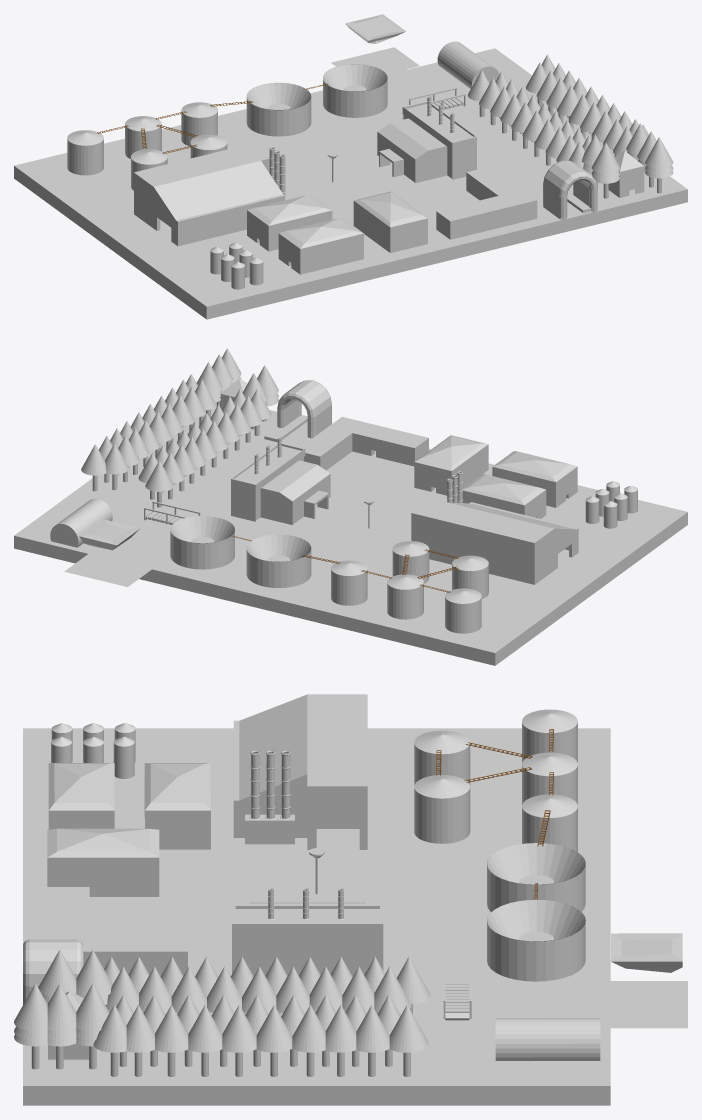
The model's file is Site_Industriel-1.fbx.
The picture shows the model from 3 angles, top to bottom: view 1: azimuth 30°, elevation 25°; view 2: azimuth 150°, elevation 25°; view 3: azimuth 270°, elevation 25°; orthographic projection. The views are drawn at different scales.
Visible parts, largest first — view 1: Plane, Cube.005, Cube.010, Plane.001, Cube.003, Cube.004, Cube.007, Cube.014, Cube.006, Torus.026, Cylinder.015, Cylinder.018 (+15 smaller); view 2: Plane, Cube.005, Plane.001, Cube.010, Cube.004, Cube.007, Cube.003, Cube.014, Cube.006, Torus.026, Cylinder.015, Cylinder.018 (+17 smaller); view 3: Plane, Cube.005, Cube.006, Cube.004, Cube.010, Cube.014, Plane.001, Cylinder.021, Cube.003, Cylinder.018, Plane.002, Cylinder.003 (+45 smaller).
Part boxes in pixels (left/top/right/bottom): Plane: left=14, top=48, right=687, bottom=319; Cube.005: left=134, top=142, right=285, bottom=246; Cube.010: left=436, top=166, right=537, bottom=239; Plane.001: left=386, top=69, right=598, bottom=218; Cube.003: left=278, top=217, right=363, bottom=274; Cube.004: left=353, top=191, right=427, bottom=252; Cube.007: left=377, top=115, right=452, bottom=183; Cube.014: left=247, top=194, right=332, bottom=251; Cube.006: left=402, top=101, right=476, bottom=179; Torus.026: left=543, top=160, right=597, bottom=219; Cylinder.015: left=246, top=83, right=311, bottom=136; Cylinder.018: left=323, top=64, right=387, bottom=117; Plane: left=14, top=402, right=687, bottom=665; Cube.005: left=411, top=498, right=578, bottom=584; Plane.001: left=103, top=421, right=311, bottom=565; Cube.010: left=300, top=417, right=428, bottom=470; Cube.004: left=414, top=435, right=488, bottom=495; Cube.007: left=255, top=457, right=330, bottom=524; Cube.003: left=492, top=451, right=577, bottom=507; Cube.014: left=462, top=474, right=546, bottom=518; Cube.006: left=231, top=443, right=305, bottom=521; Torus.026: left=277, top=380, right=331, bottom=438; Cylinder.015: left=246, top=548, right=311, bottom=587; Cylinder.018: left=170, top=530, right=234, bottom=569; Plane: left=23, top=728, right=610, bottom=1105; Cube.005: left=233, top=694, right=367, bottom=849; Cube.006: left=232, top=905, right=383, bottom=976; Cube.004: left=47, top=828, right=159, bottom=896; Cube.010: left=46, top=887, right=187, bottom=976; Cube.014: left=144, top=763, right=210, bottom=849; Plane.001: left=165, top=990, right=609, bottom=1018; Cylinder.021: left=495, top=1018, right=600, bottom=1060; Cube.003: left=48, top=763, right=114, bottom=829; Cylinder.018: left=487, top=906, right=585, bottom=981; Plane.002: left=609, top=981, right=687, bottom=1028; Cylinder.003: left=414, top=775, right=470, bottom=843.
Size of the model in its own units: 3920 by 554 by 3120.
